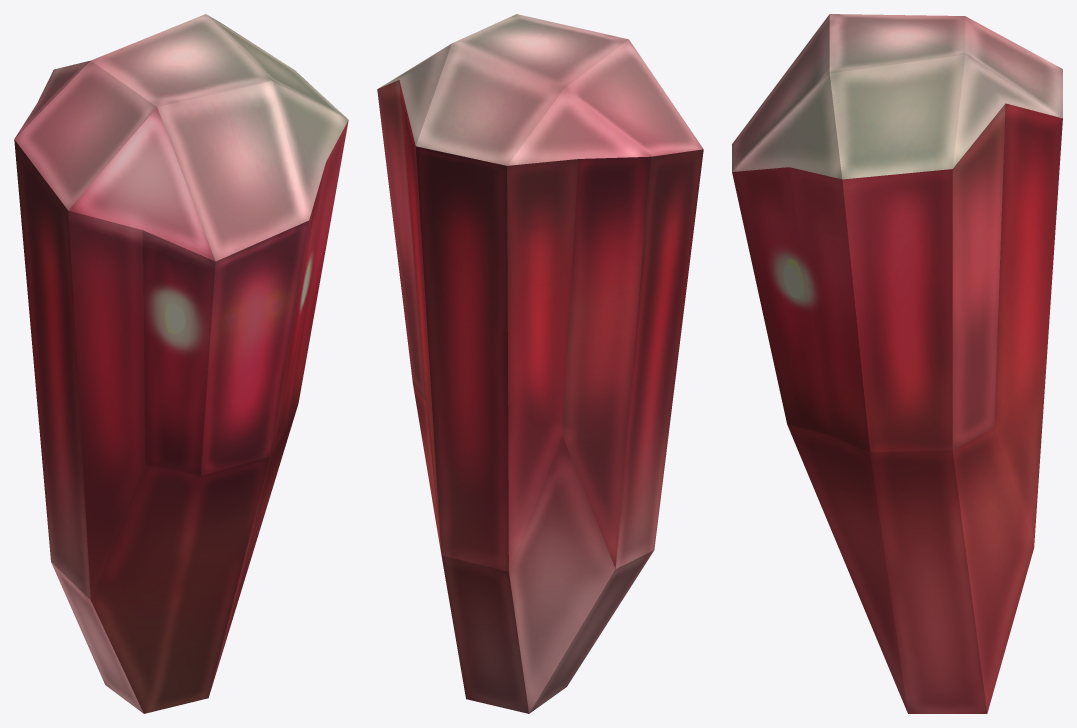
Rendered from CrystalEnemy.fbx.
The picture shows the model from 3 angles, left to right: view 1: azimuth 30°, elevation 25°; view 2: azimuth 150°, elevation 25°; view 3: azimuth 270°, elevation 25°; orthographic projection. The views are drawn at different scales.
Parts seen in each view (by area): view 1: Cube; view 2: Cube; view 3: Cube.
Part boxes in pixels (x1=…): Cube: x1=14, y1=14, x2=348, y2=713; Cube: x1=377, y1=14, x2=703, y2=713; Cube: x1=732, y1=14, x2=1062, y2=713.
Bounding box in the file's own units: 42.13 × 94.38 × 42.13.
1 material, 1 textured.
